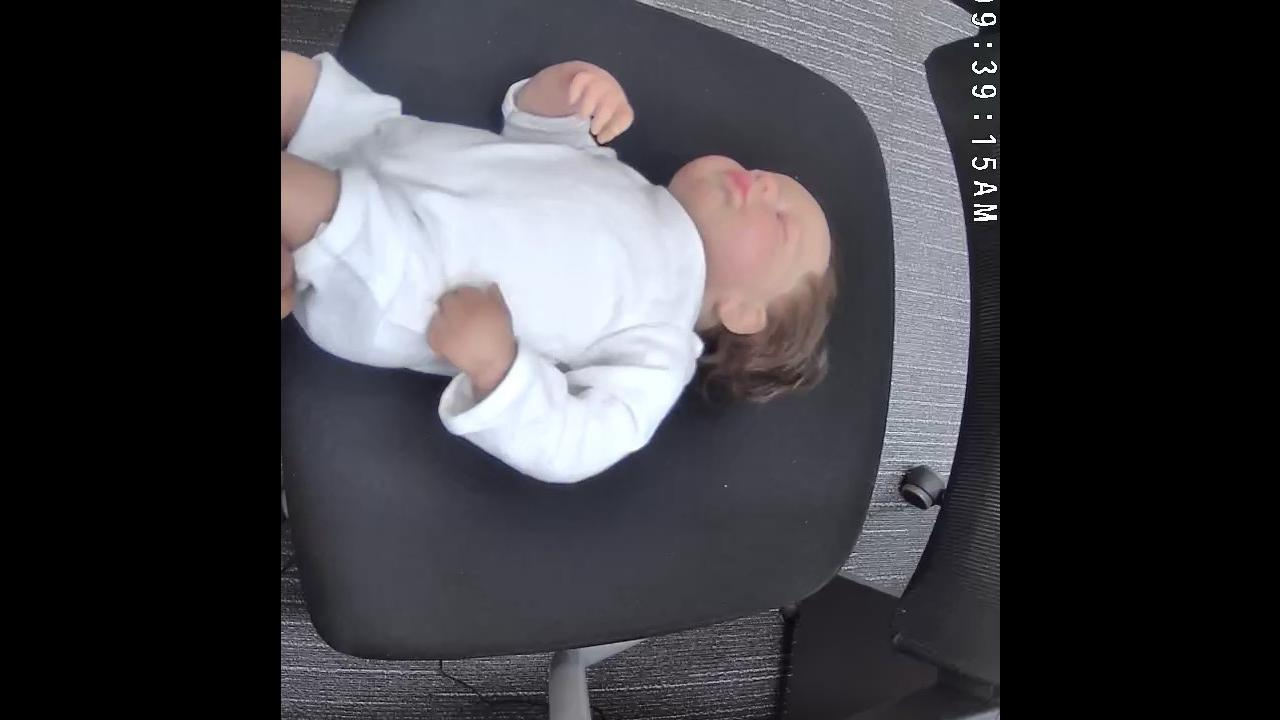hand: (422, 278, 515, 388), (538, 64, 634, 144)
